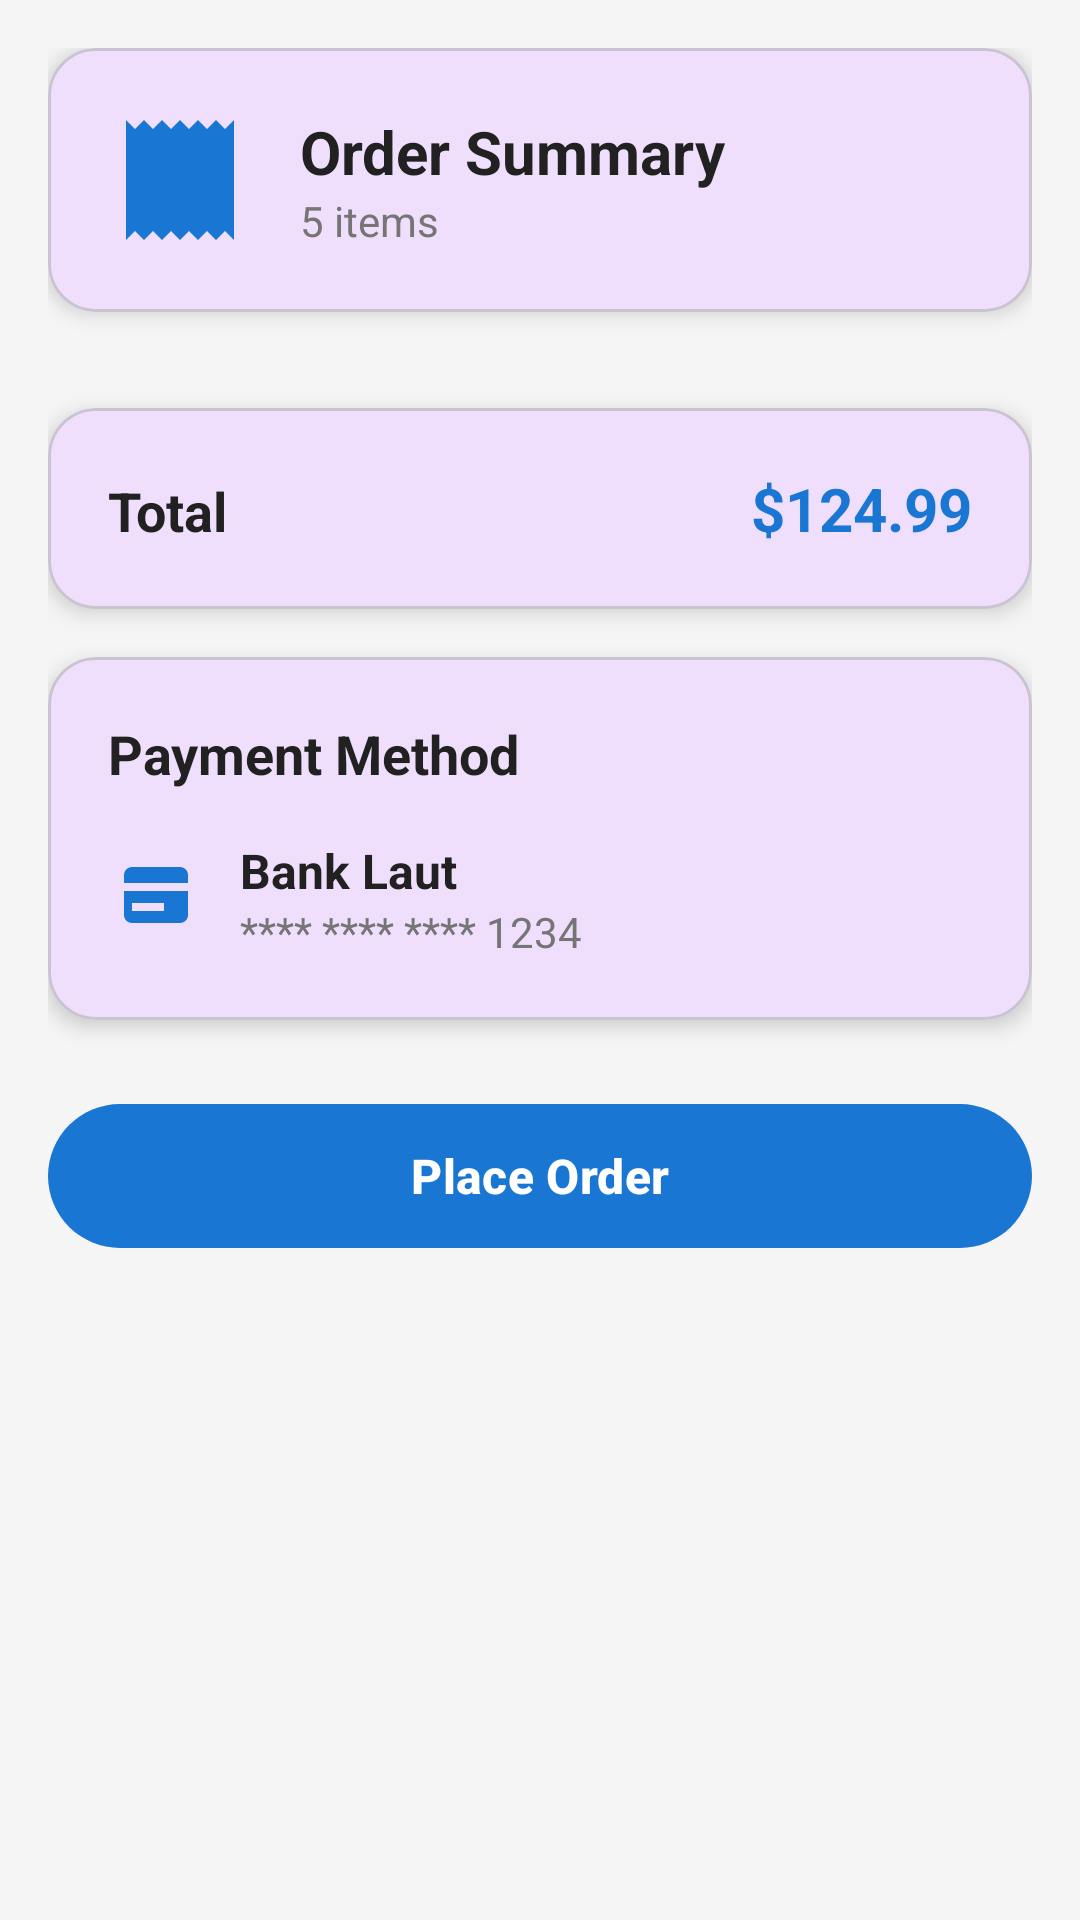

Icon click points for this 1080px×1920px phone screenshot, format (x,y):
credit card: (156,895)
receipt: (180,180)
